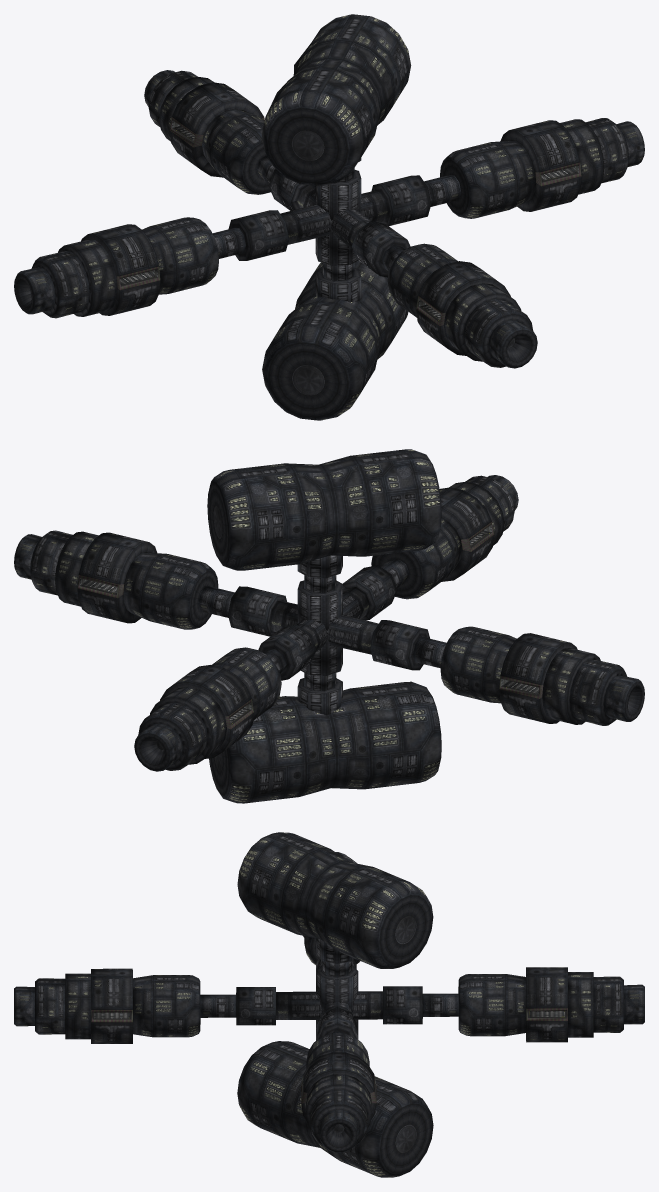
File: Harmony.fbx
3 views of the same model, one above another, from view 1: azimuth 30°, elevation 25°; view 2: azimuth 150°, elevation 25°; view 3: azimuth 270°, elevation 25° (orthographic). The views are drawn at different scales.
Parts seen in each view (by area): view 1: Harmony; view 2: Harmony; view 3: Harmony.
Part boxes in pixels (x1,y1,x2,y2): Harmony: (14,14,644,420); Harmony: (14,449,644,803); Harmony: (14,832,644,1177).
Size of the model in its own units: 1982 by 1004 by 1982.
